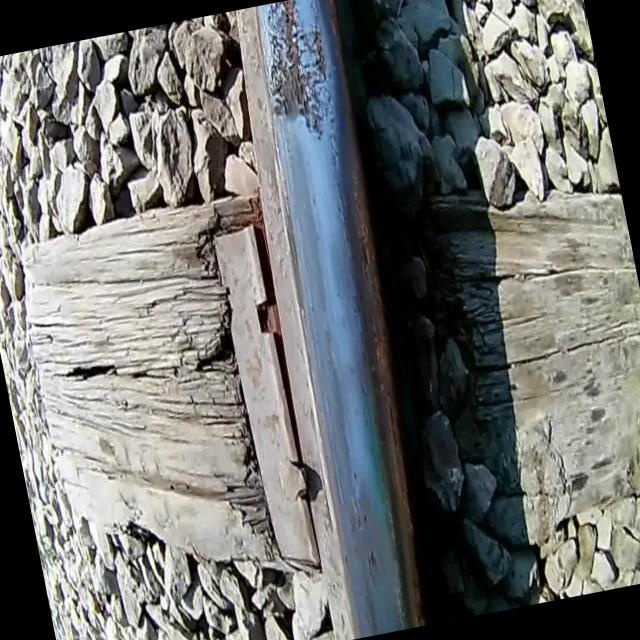Cracks: (292, 7, 334, 92), (252, 5, 298, 72)
Spallings: (252, 0, 344, 150)
Squats: (248, 0, 352, 167)
